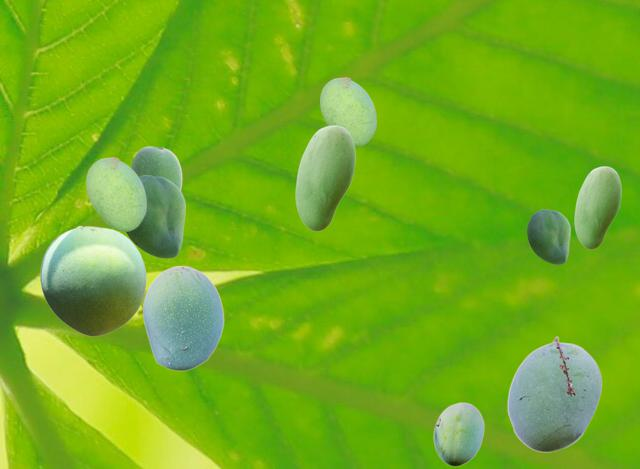green_mango: (40, 225, 145, 335), (507, 336, 601, 451), (142, 265, 223, 370), (295, 125, 354, 230), (124, 175, 184, 257), (86, 157, 145, 230), (574, 166, 620, 248), (320, 77, 375, 145), (433, 402, 483, 465), (527, 209, 569, 263), (131, 146, 181, 190)
